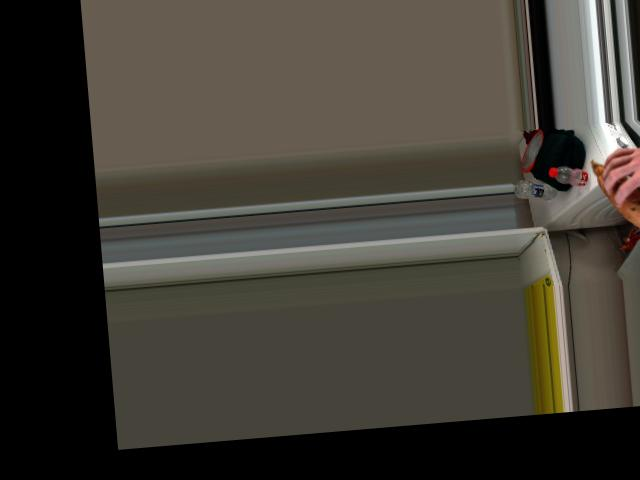sweet_potato: (592, 150, 640, 228)
